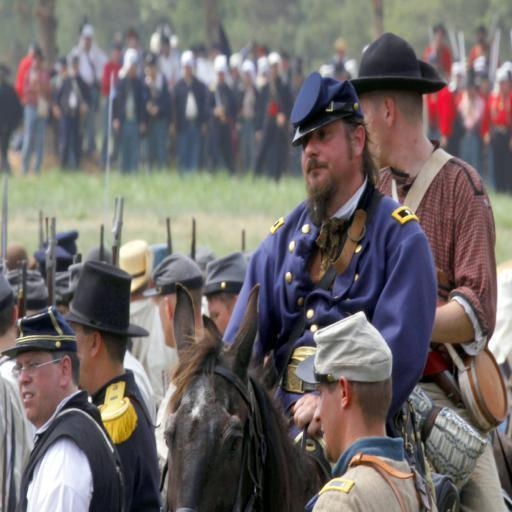horse: (165, 278, 512, 512)
